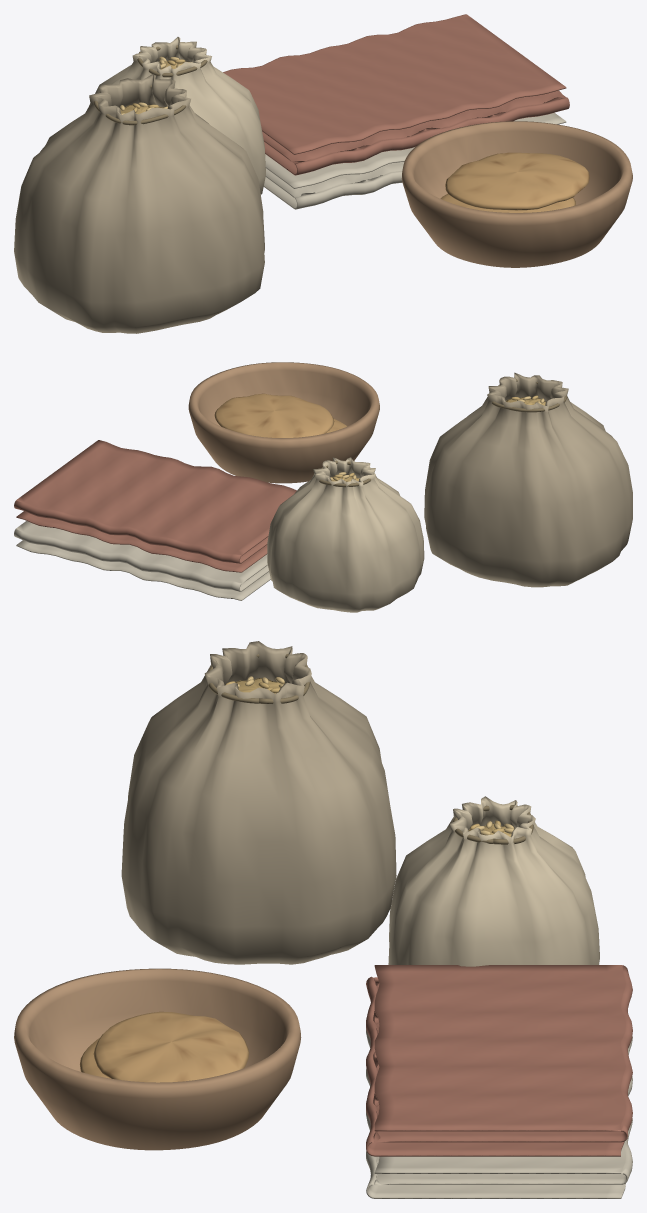
The model's file is joseph-provisions.glb.
The picture shows the model from 3 angles, top to bottom: view 1: azimuth 30°, elevation 25°; view 2: azimuth 150°, elevation 25°; view 3: azimuth 270°, elevation 25°; orthographic projection. The views are drawn at different scales.
Parts seen in each view (by area): view 1: joseph-provisions-joseph-undyed-woven-fibre, joseph-provisions-joseph-selected-muted-cloth, joseph-provisions-joseph-comparison-earthenware, joseph-provisions-joseph-travel-bread, joseph-provisions-joseph-pale-wrapping-fibre, joseph-provisions-joseph-selected-plain-cloth, joseph-provisions-joseph-comparison-fibre-cord; view 2: joseph-provisions-joseph-undyed-woven-fibre, joseph-provisions-joseph-selected-muted-cloth, joseph-provisions-joseph-pale-wrapping-fibre, joseph-provisions-joseph-comparison-earthenware, joseph-provisions-joseph-selected-plain-cloth, joseph-provisions-joseph-travel-bread, joseph-provisions-joseph-comparison-fibre-cord; view 3: joseph-provisions-joseph-undyed-woven-fibre, joseph-provisions-joseph-selected-muted-cloth, joseph-provisions-joseph-comparison-earthenware, joseph-provisions-joseph-pale-wrapping-fibre, joseph-provisions-joseph-selected-plain-cloth, joseph-provisions-joseph-travel-bread, joseph-provisions-joseph-comparison-fibre-cord.
Part boxes in pixels (x1=…): joseph-provisions-joseph-undyed-woven-fibre: x1=14, y1=74, x2=264, y2=333; joseph-provisions-joseph-selected-muted-cloth: x1=223, y1=14, x2=569, y2=175; joseph-provisions-joseph-comparison-earthenware: x1=401, y1=121, x2=632, y2=267; joseph-provisions-joseph-travel-bread: x1=440, y1=152, x2=589, y2=212; joseph-provisions-joseph-pale-wrapping-fibre: x1=89, y1=37, x2=265, y2=194; joseph-provisions-joseph-selected-plain-cloth: x1=263, y1=112, x2=566, y2=209; joseph-provisions-joseph-comparison-fibre-cord: x1=93, y1=45, x2=207, y2=125; joseph-provisions-joseph-undyed-woven-fibre: x1=424, y1=372, x2=632, y2=587; joseph-provisions-joseph-selected-muted-cloth: x1=14, y1=440, x2=296, y2=572; joseph-provisions-joseph-pale-wrapping-fibre: x1=267, y1=457, x2=424, y2=612; joseph-provisions-joseph-comparison-earthenware: x1=188, y1=362, x2=379, y2=483; joseph-provisions-joseph-selected-plain-cloth: x1=14, y1=521, x2=270, y2=600; joseph-provisions-joseph-travel-bread: x1=214, y1=393, x2=346, y2=437; joseph-provisions-joseph-comparison-fibre-cord: x1=319, y1=379, x2=567, y2=487; joseph-provisions-joseph-undyed-woven-fibre: x1=121, y1=641, x2=396, y2=964; joseph-provisions-joseph-selected-muted-cloth: x1=366, y1=965, x2=632, y2=1156; joseph-provisions-joseph-comparison-earthenware: x1=14, y1=968, x2=301, y2=1150; joseph-provisions-joseph-pale-wrapping-fibre: x1=388, y1=796, x2=599, y2=966; joseph-provisions-joseph-selected-plain-cloth: x1=366, y1=1013, x2=632, y2=1198; joseph-provisions-joseph-travel-bread: x1=80, y1=1011, x2=249, y2=1082; joseph-provisions-joseph-comparison-fibre-cord: x1=208, y1=654, x2=533, y2=844.
Size of the model in its own units: 0.9597 by 0.3241 by 0.7156.
